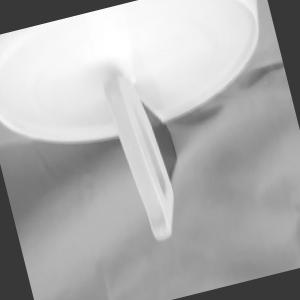serrote: (98, 60, 195, 245)
